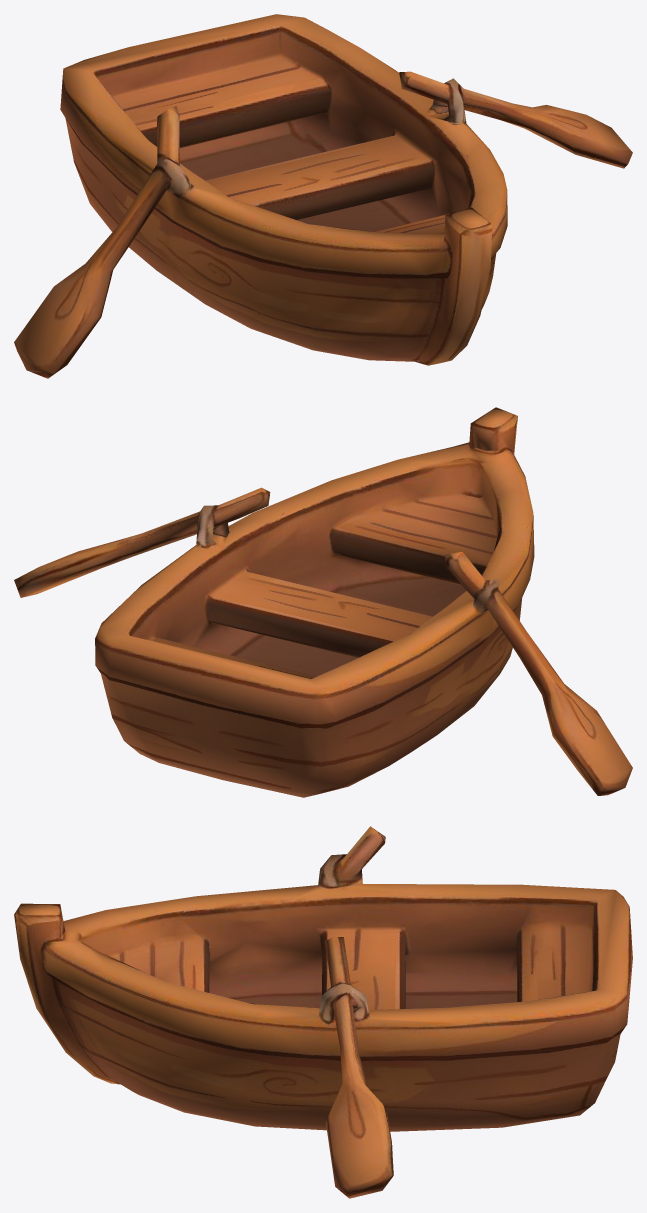
The model's file is demo_rowboat_chibi.glb.
3 views of the same model, one above another, from view 1: azimuth 30°, elevation 25°; view 2: azimuth 150°, elevation 25°; view 3: azimuth 270°, elevation 25° (orthographic). The views are drawn at different scales.
Parts seen in each view (by area): view 1: tripo_node_3d89454f-18dc-48bd-b26b-8c6275d72434.001; view 2: tripo_node_3d89454f-18dc-48bd-b26b-8c6275d72434.001; view 3: tripo_node_3d89454f-18dc-48bd-b26b-8c6275d72434.001.
Part boxes in pixels (x1,y1,x2,y2): tripo_node_3d89454f-18dc-48bd-b26b-8c6275d72434.001: (14,14,632,378); tripo_node_3d89454f-18dc-48bd-b26b-8c6275d72434.001: (14,407,632,797); tripo_node_3d89454f-18dc-48bd-b26b-8c6275d72434.001: (14,826,632,1198).
Size of the model in its own units: 0.9982 by 0.3434 by 0.8931.
1 material, 1 textured.
